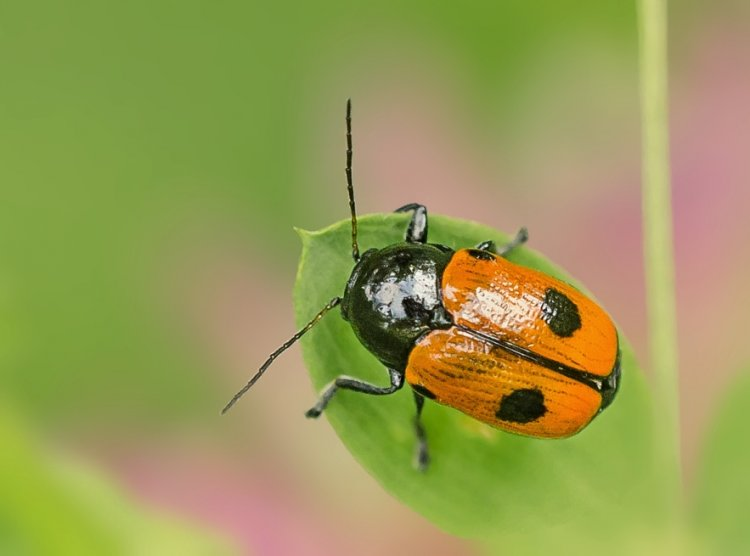Cryptocephalus_bipunctatus: (219, 91, 627, 471)
